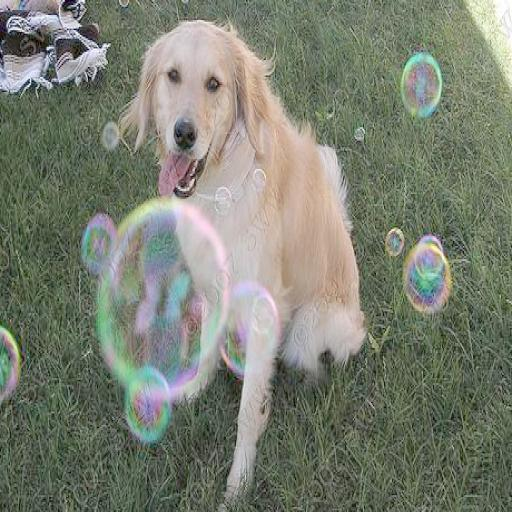dog_face: (134, 22, 263, 175)
